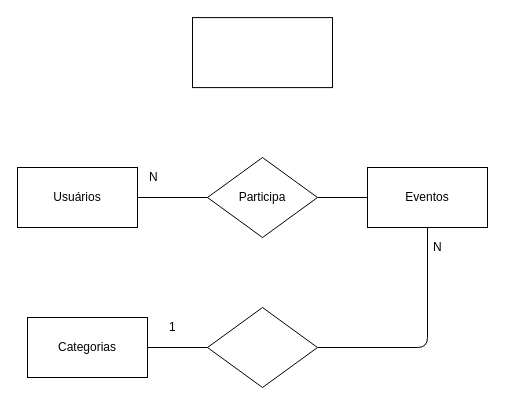
Some shapes in this 505 by 405 pixel diagram are drawn without their labels. The box of each missing label's shape, as (x1, y1, x2, y2) in pixels:
Conceitual: (192, 17, 332, 88)
Contém: (206, 306, 318, 388)
